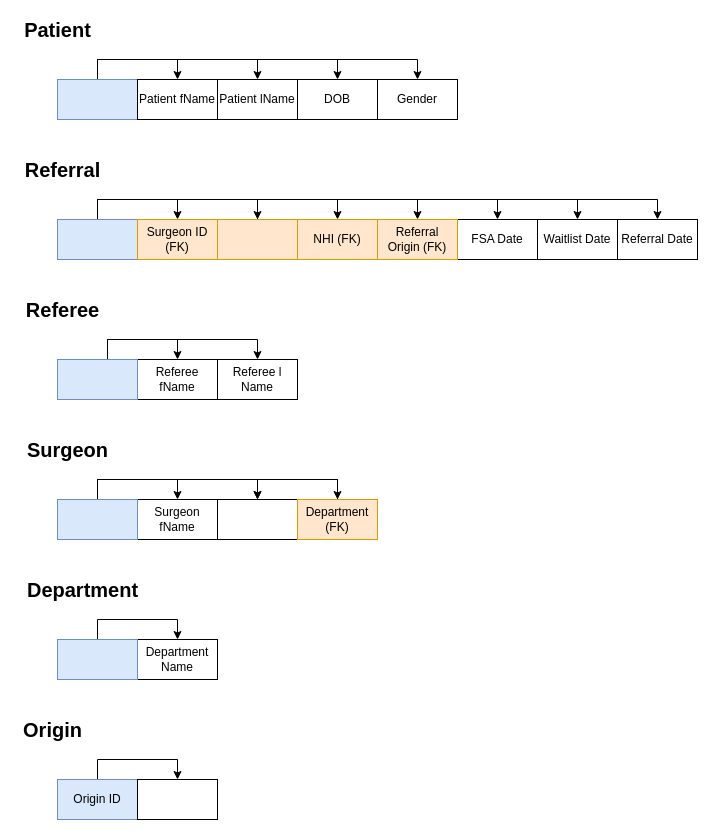
Some shapes in this 715 by 837 pixel diagram are drawn without their labels. Here are the shapes that lost their labels. From the top down, the box of each, then its label:
(56, 78, 138, 120): NHI
(56, 218, 138, 260): Referral ID
(216, 218, 298, 260): Referee ID (FK)
(56, 358, 138, 400): Referee ID
(56, 498, 138, 540): Surgeon ID
(216, 498, 298, 540): Surgeon lName
(56, 638, 138, 680): Department ID
(136, 778, 218, 820): Origin Name
